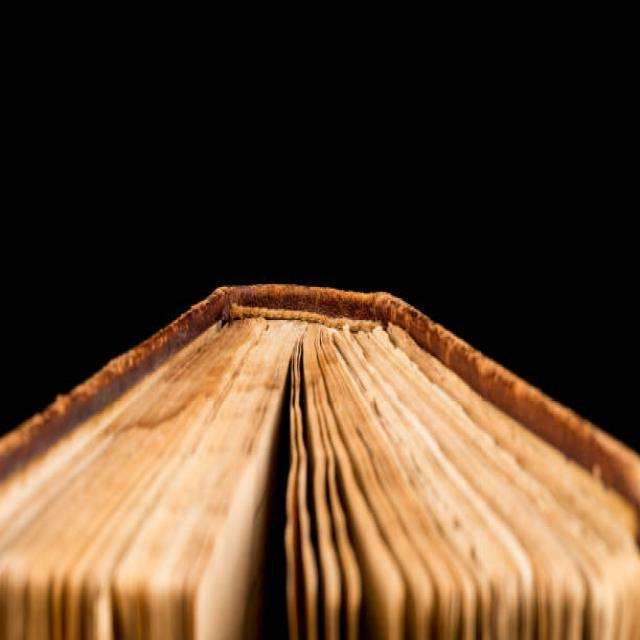electronic: (0, 281, 639, 638)
